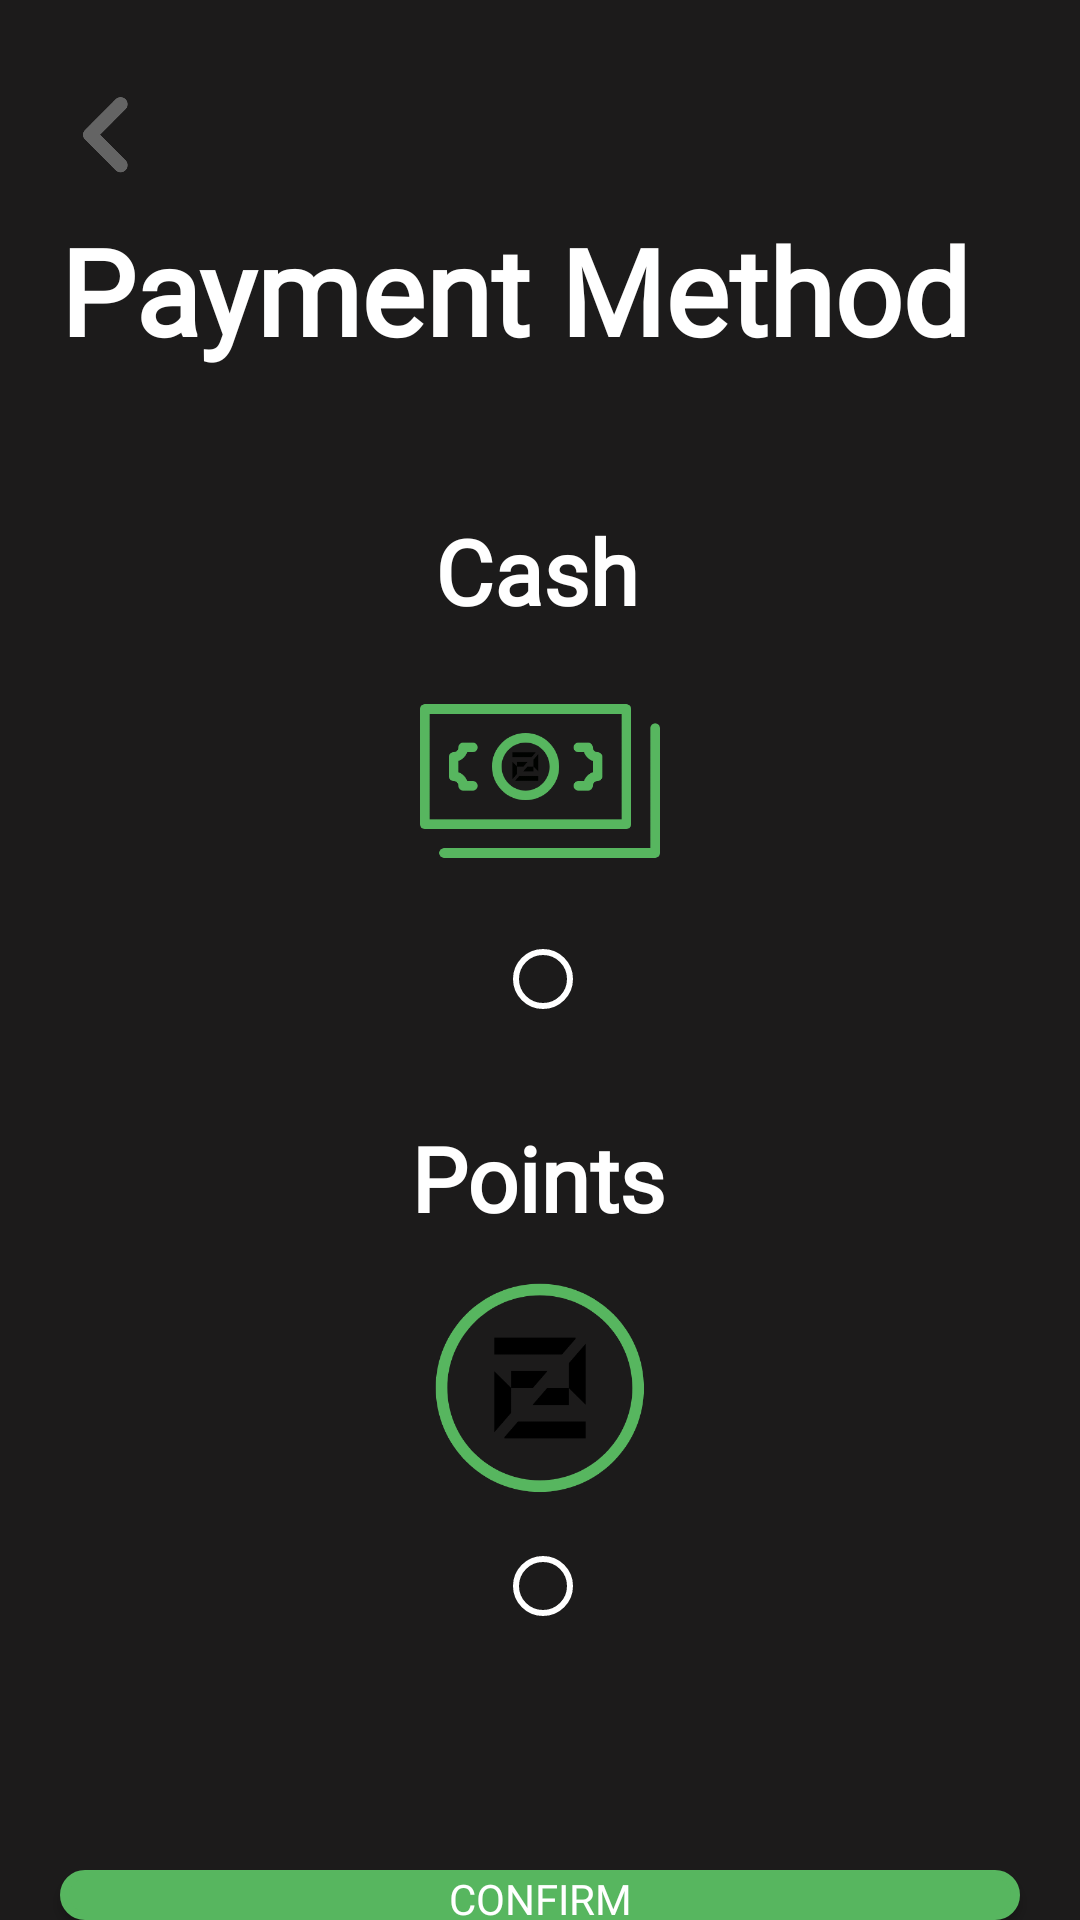

Screen size 1080x1920. Icon name, then its center in pixels as (x=x, y=y):
backbutton: (x=105, y=134)
cod: (x=540, y=781)
